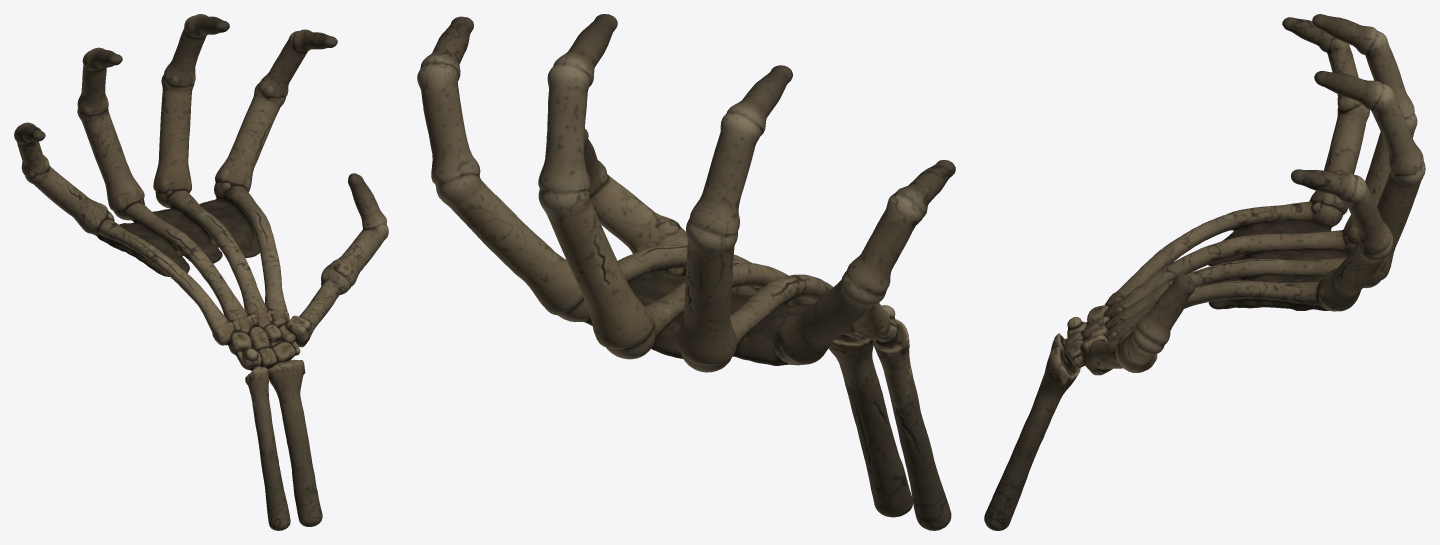
The model's file is ui_skeletal_hand.glb.
The picture shows the model from 3 angles, left to right: view 1: azimuth 30°, elevation 25°; view 2: azimuth 150°, elevation 25°; view 3: azimuth 270°, elevation 25°; orthographic projection. The views are drawn at different scales.
Visible parts, largest first — view 1: ui_skeletal_hand; view 2: ui_skeletal_hand; view 3: ui_skeletal_hand.
Boxes of the visible parts, x1,y1,x2,y2 form: ui_skeletal_hand: [14, 14, 388, 530]; ui_skeletal_hand: [417, 14, 955, 530]; ui_skeletal_hand: [984, 14, 1425, 530].
Size of the model in its own units: 1.77 by 2.18 by 1.8.
Materials: 1 (1 with a texture image).
